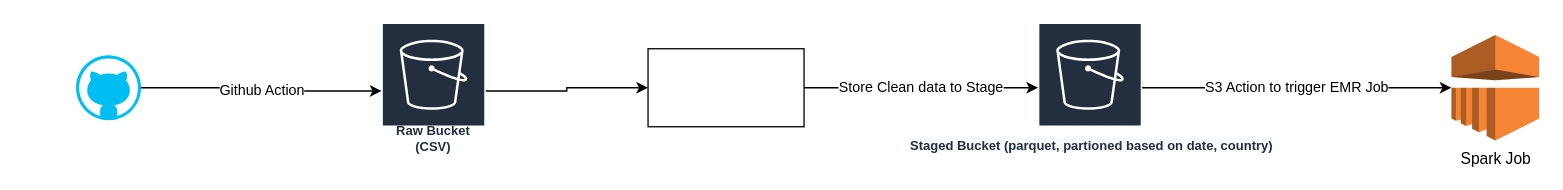
The diagram is 1563 pixels wide and 190 high, and some of its shapes have lost their labels. Here are the shapes that lost their labels. From the top down, the box of each, then its label:
(75, 55, 140, 120): Source Data from Github
(647, 47, 804, 127): Data Cleaning
